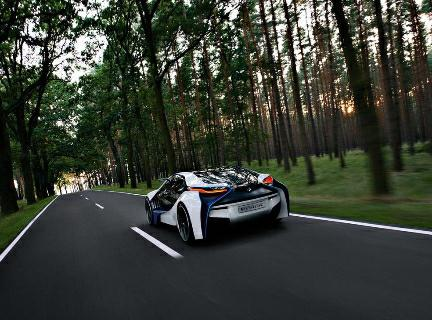宝马-EfficientDynamics: (145, 165, 295, 247)
